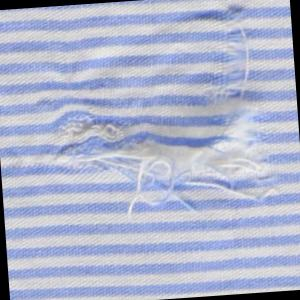Damage: (25, 3, 288, 234)
